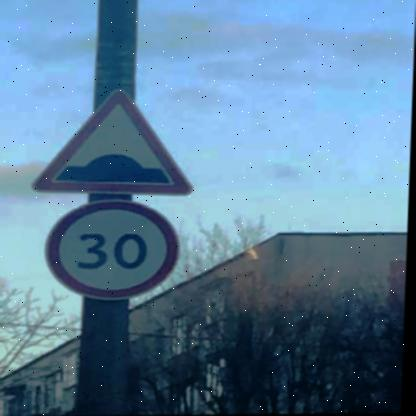Speed Limit -30-: (44, 199, 183, 304)
